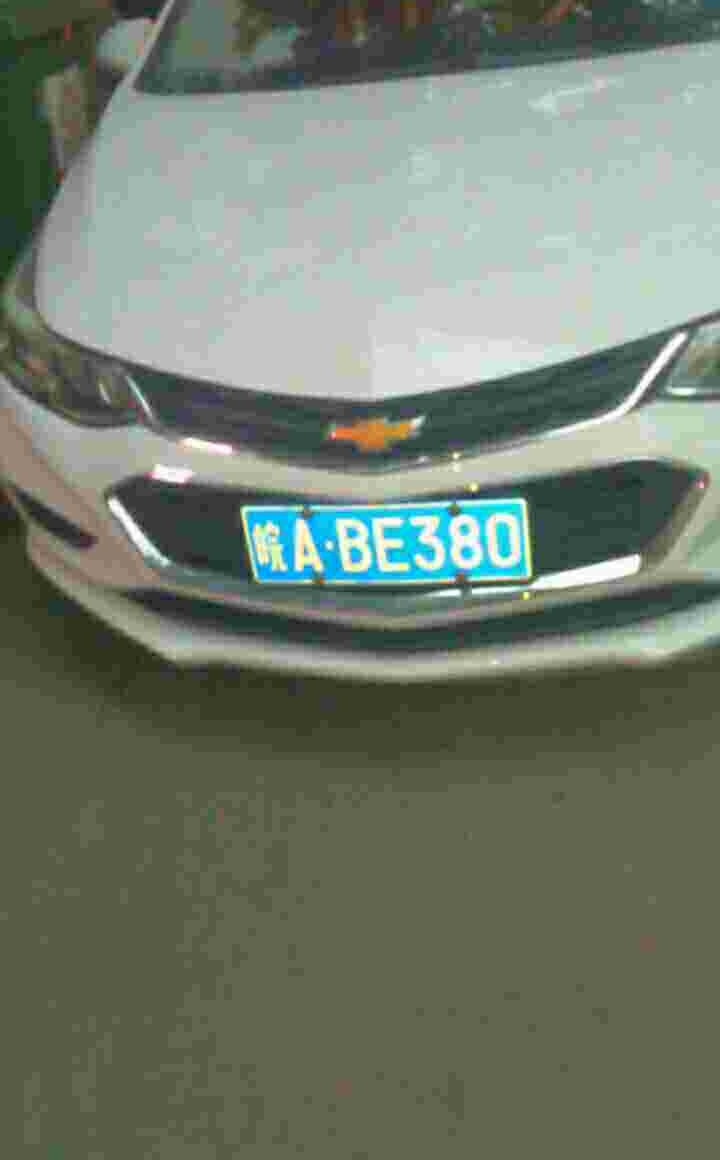plate: (239, 497, 540, 590)
